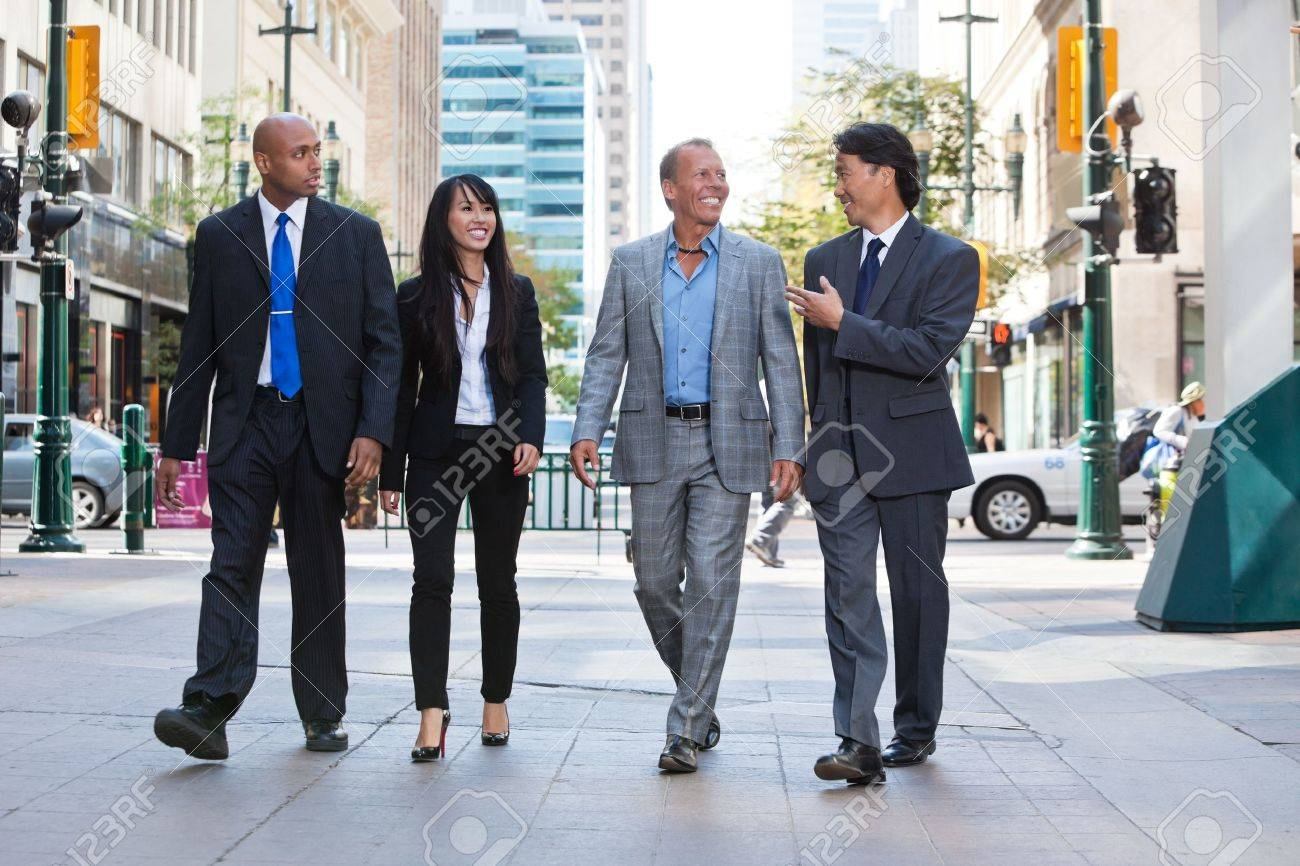NOTSAFE: (605, 126, 782, 526), (805, 115, 966, 508), (204, 111, 374, 483), (410, 173, 538, 469)
